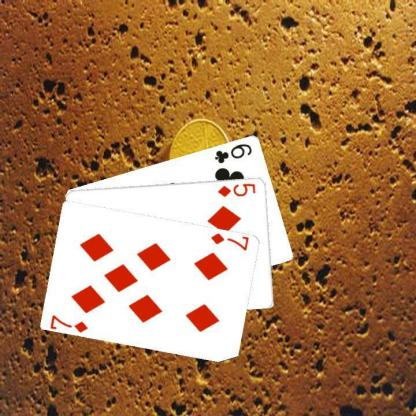5D: (216, 180, 256, 198)
6C: (212, 140, 254, 165)
7D: (209, 230, 250, 252), (48, 312, 90, 333)
